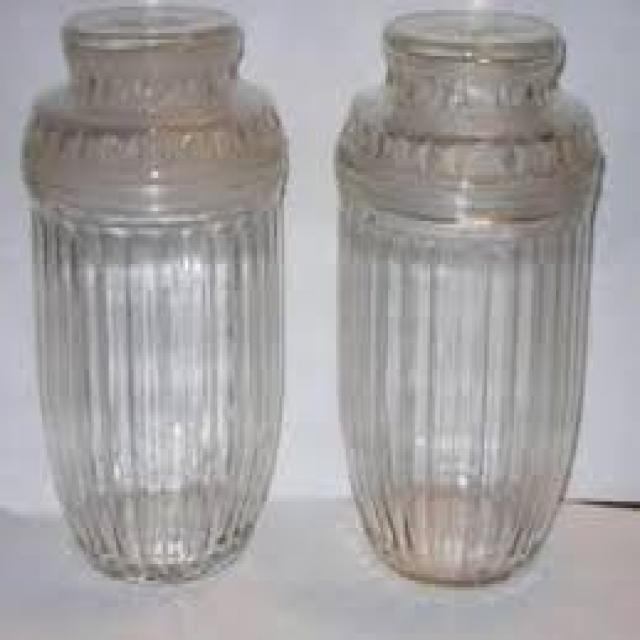glass: (20, 13, 287, 584), (334, 10, 598, 581)
